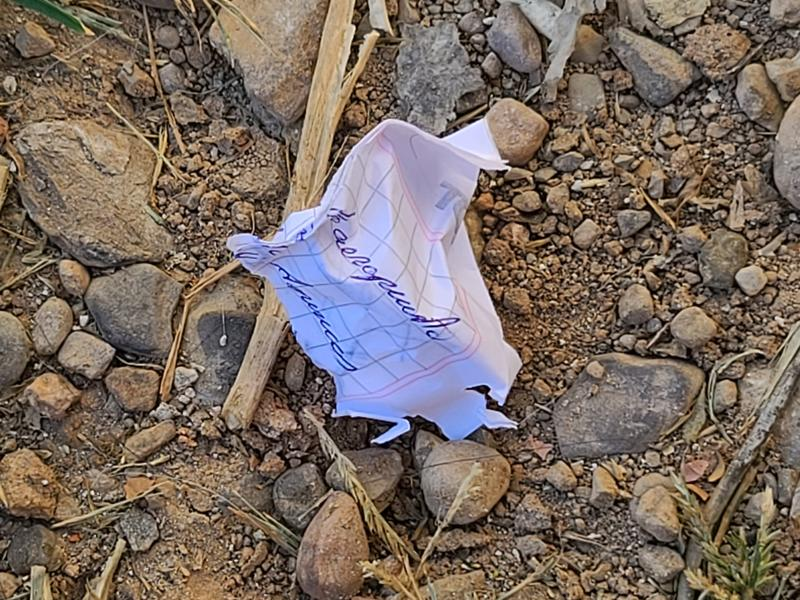papel: (226, 118, 538, 446)
